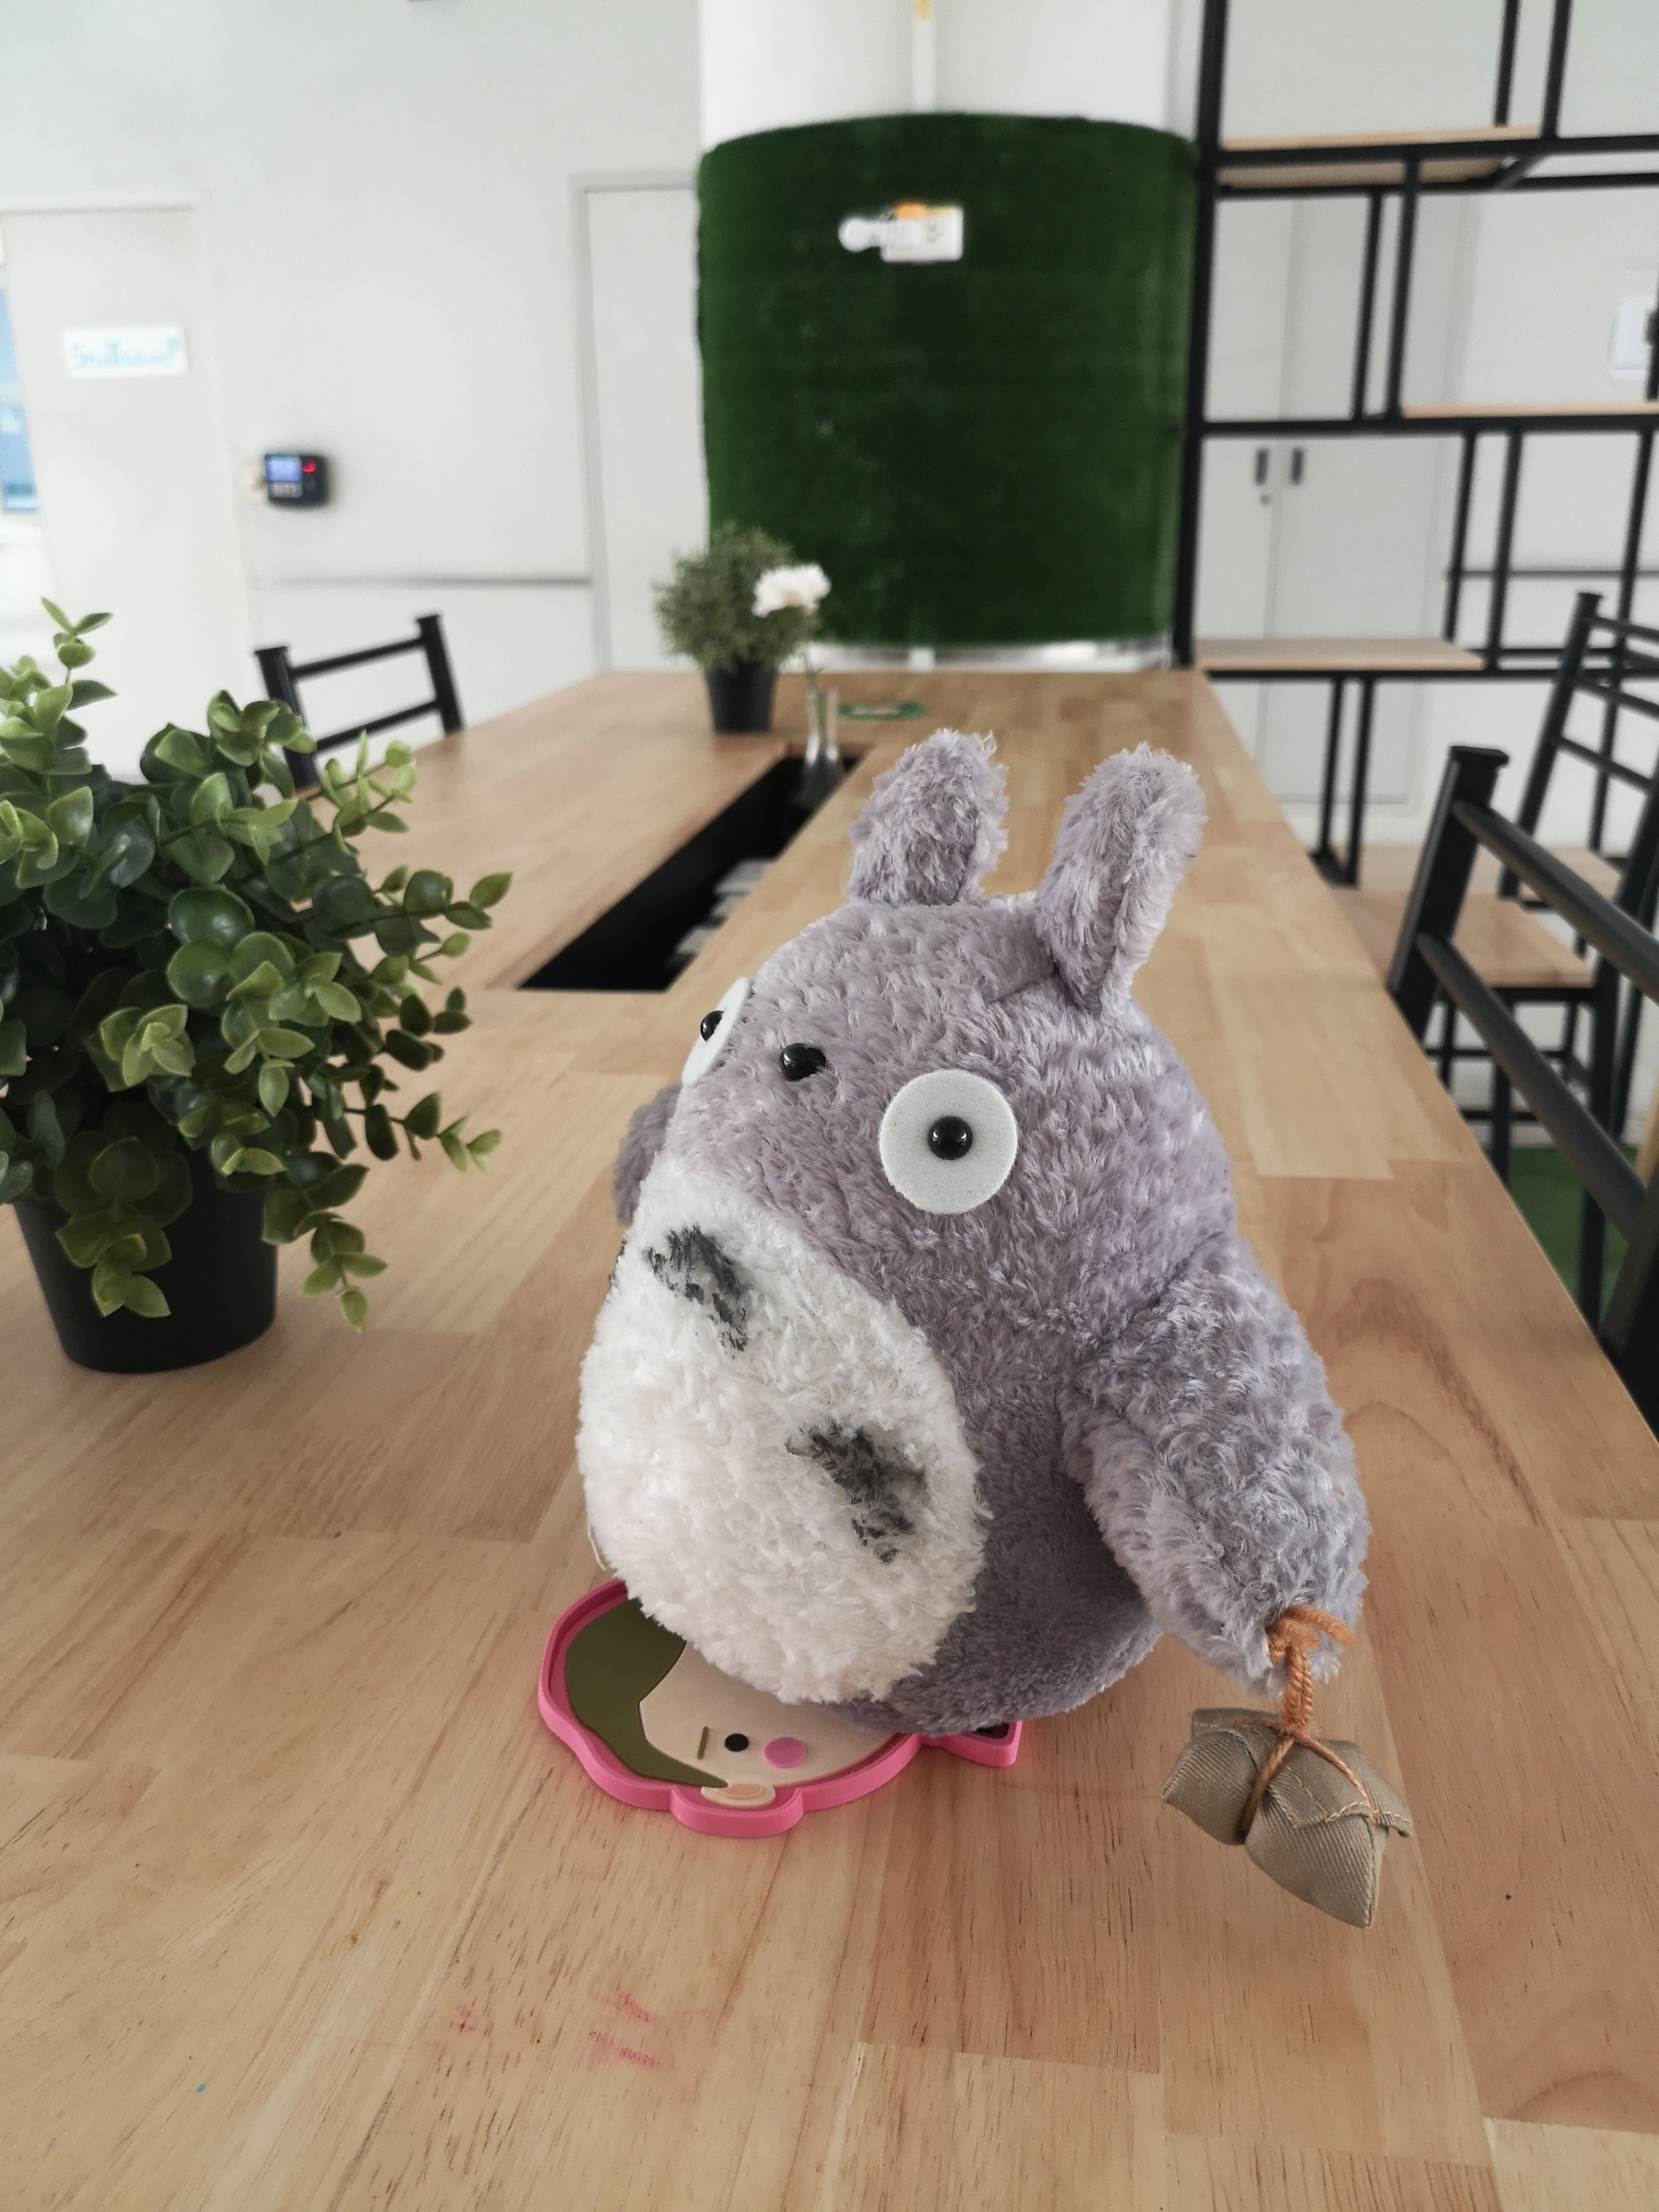totoro: (556, 714, 1429, 1926)
